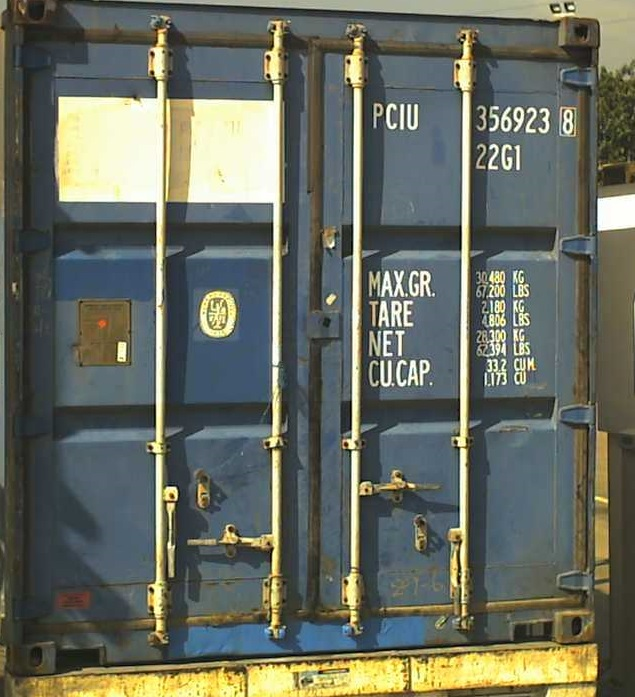container_door: (16, 1, 591, 671)
